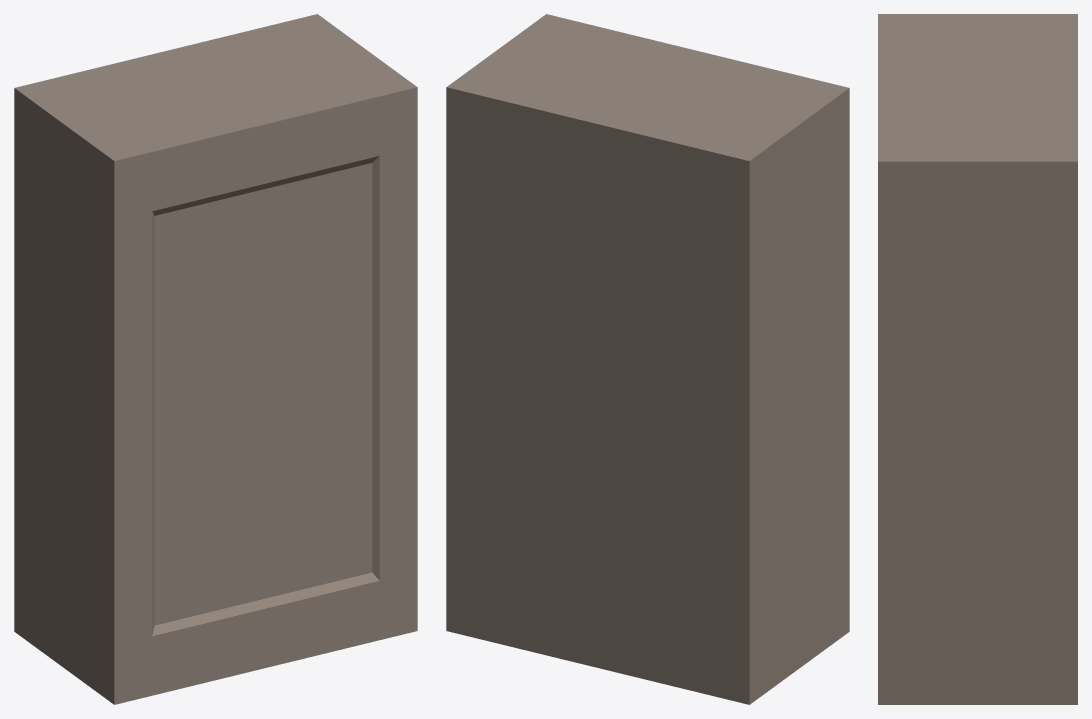
Rendered from Wall-Cabinet-Single-Door-with-Shelves_std_001_H36in_onlyH.glb.
3 views of the same model, side by side, from view 1: azimuth 30°, elevation 25°; view 2: azimuth 150°, elevation 25°; view 3: azimuth 270°, elevation 25° (orthographic).
Parts seen in each view (by area): view 1: Wall-Cabinet-Single-Door-with-Shelves.std.001_H36in_onlyH; view 2: Wall-Cabinet-Single-Door-with-Shelves.std.001_H36in_onlyH; view 3: Wall-Cabinet-Single-Door-with-Shelves.std.001_H36in_onlyH.
Boxes of the visible parts, x1=… form: Wall-Cabinet-Single-Door-with-Shelves.std.001_H36in_onlyH: x1=14, y1=14, x2=417, y2=704; Wall-Cabinet-Single-Door-with-Shelves.std.001_H36in_onlyH: x1=446, y1=14, x2=849, y2=704; Wall-Cabinet-Single-Door-with-Shelves.std.001_H36in_onlyH: x1=878, y1=14, x2=1077, y2=704.
Size of the model in its own units: 0.5334 by 0.9144 by 0.3048.
